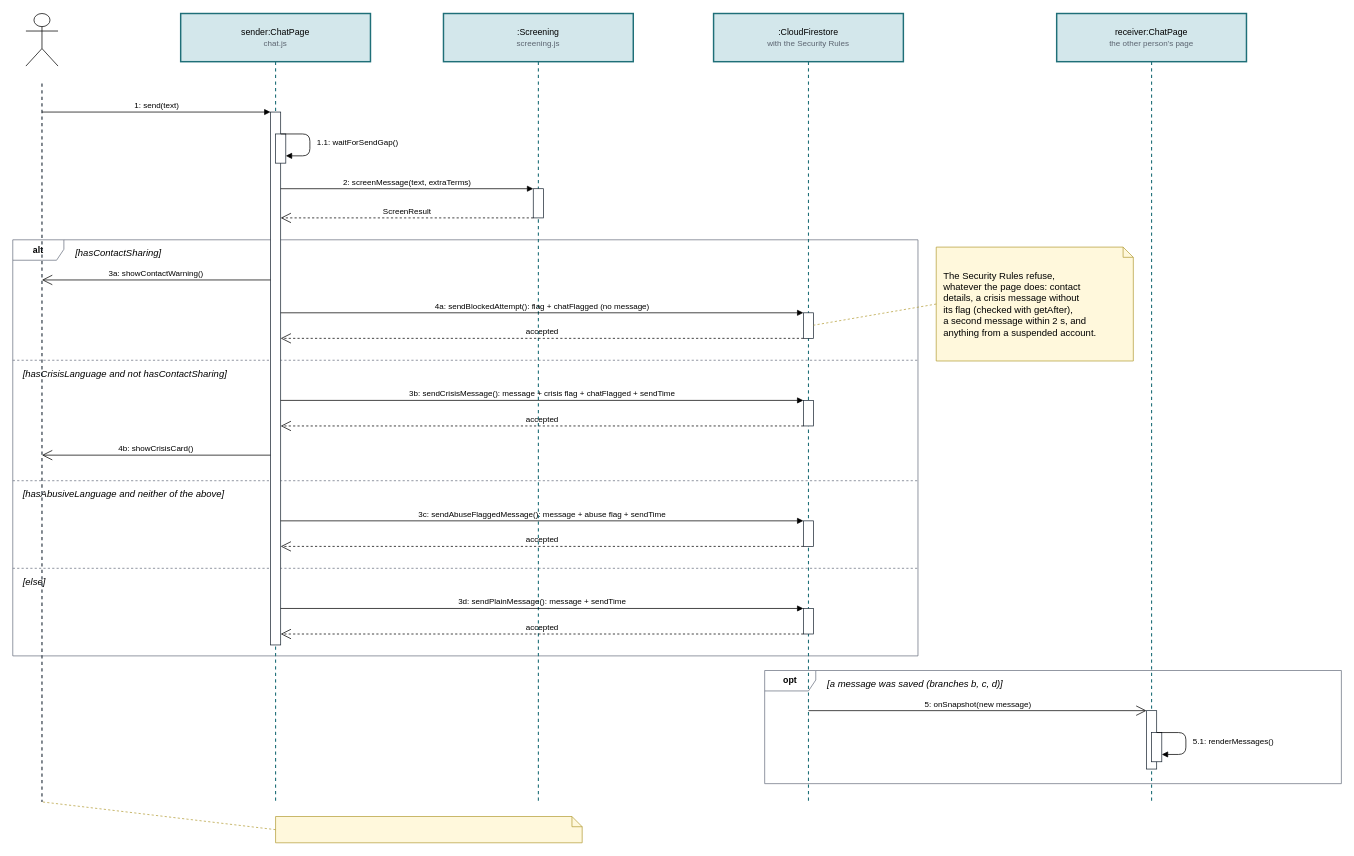
Some shapes in this 1354 by 856 pixel diagram are drawn without their labels. Here are the shapes that lost their labels. From the top down, the centre of each, then its label:
point 41,39: Sender
point 428,829: Sender = any user or listener in the chat.
